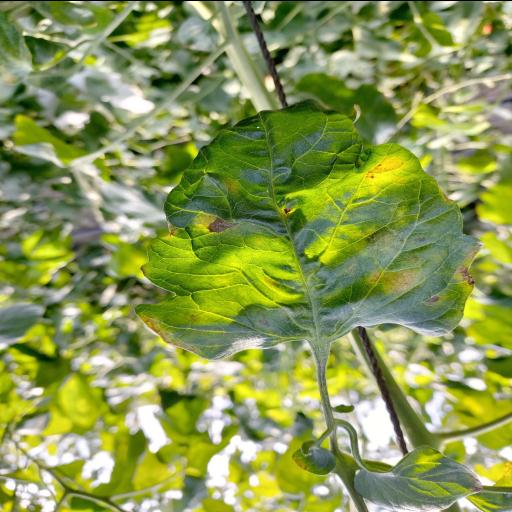Leaf Mold: (136, 96, 482, 358)
